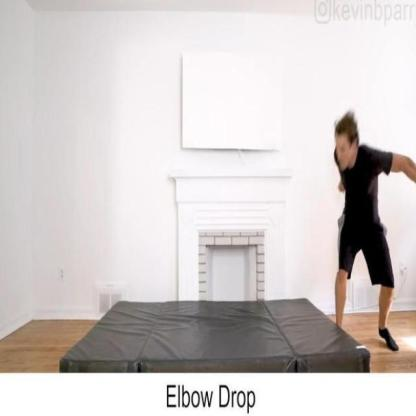person: (302, 104, 416, 352)
